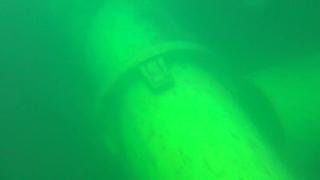pipe: (30, 1, 301, 180), (235, 49, 320, 166)
